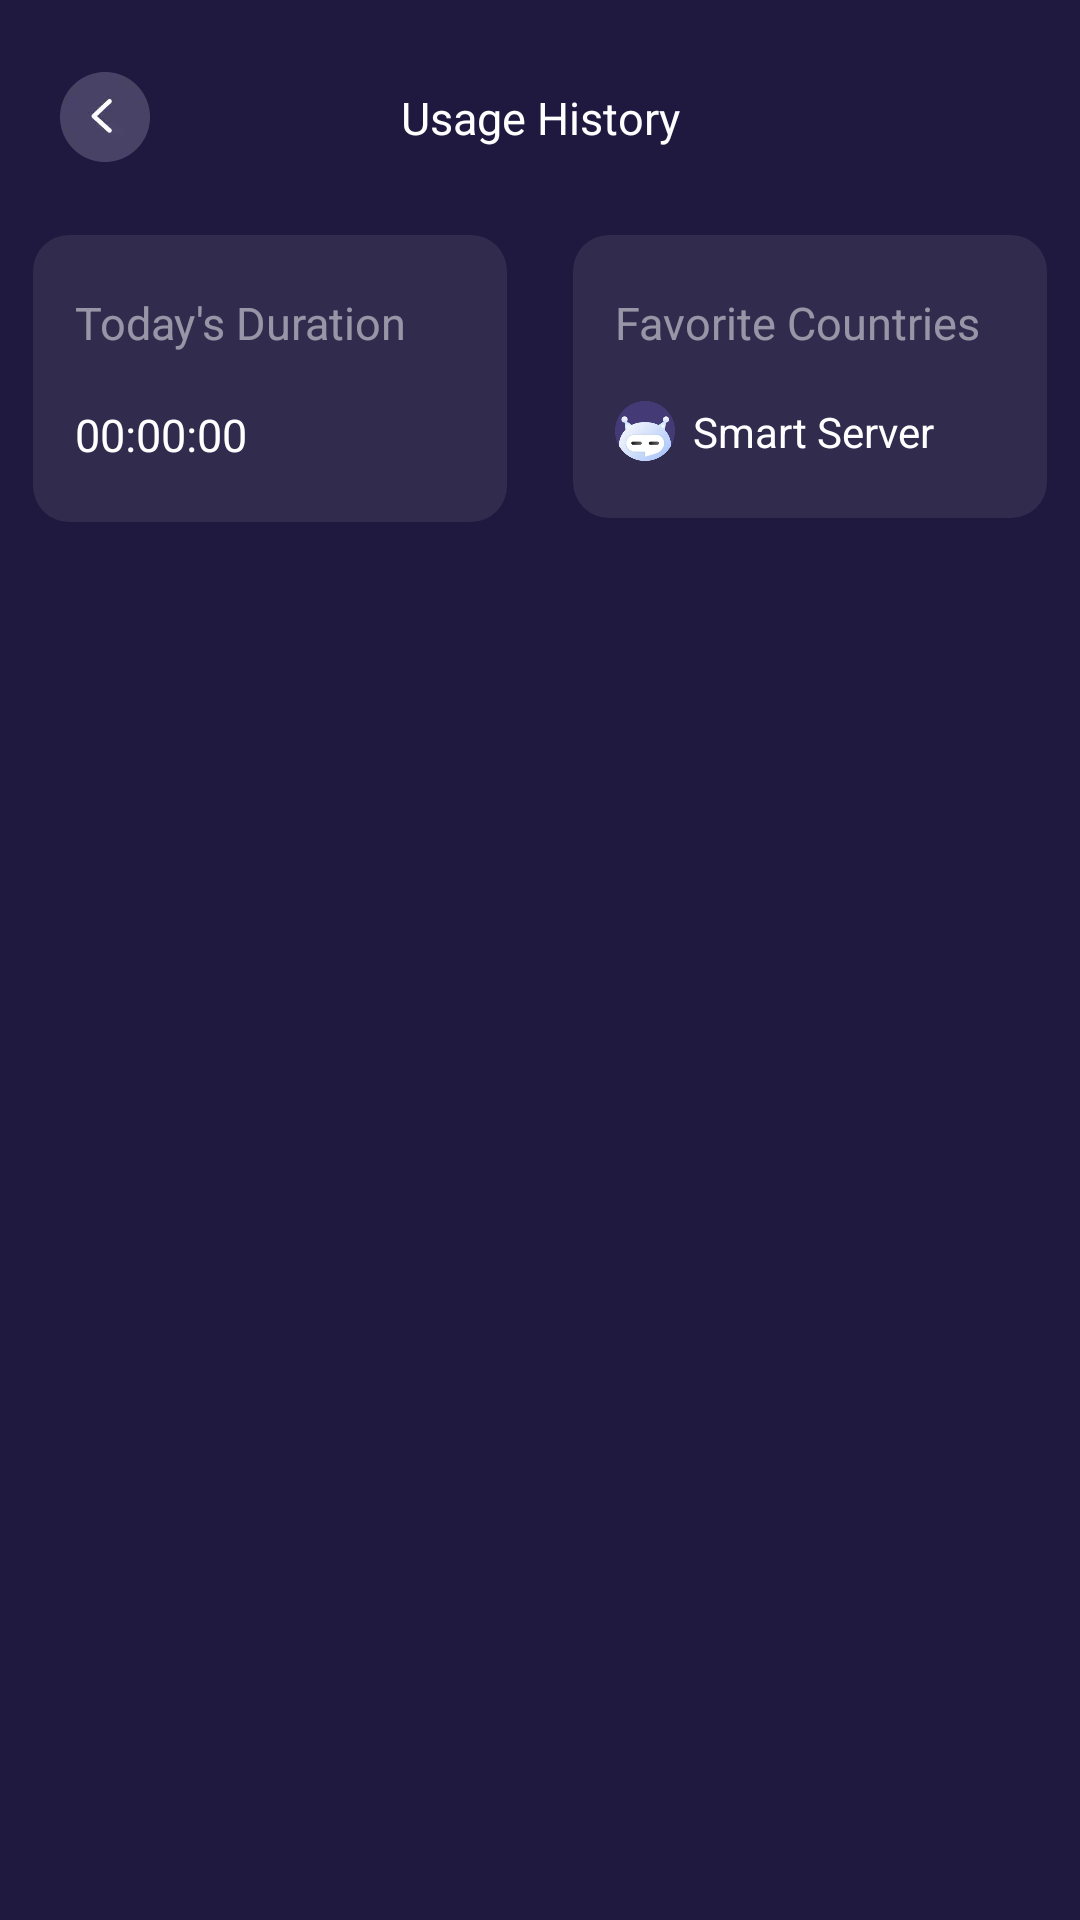

Icons on this 1080 x 1920 Android screen, each with the point to tap as [x,y]:
back: [105,117]
